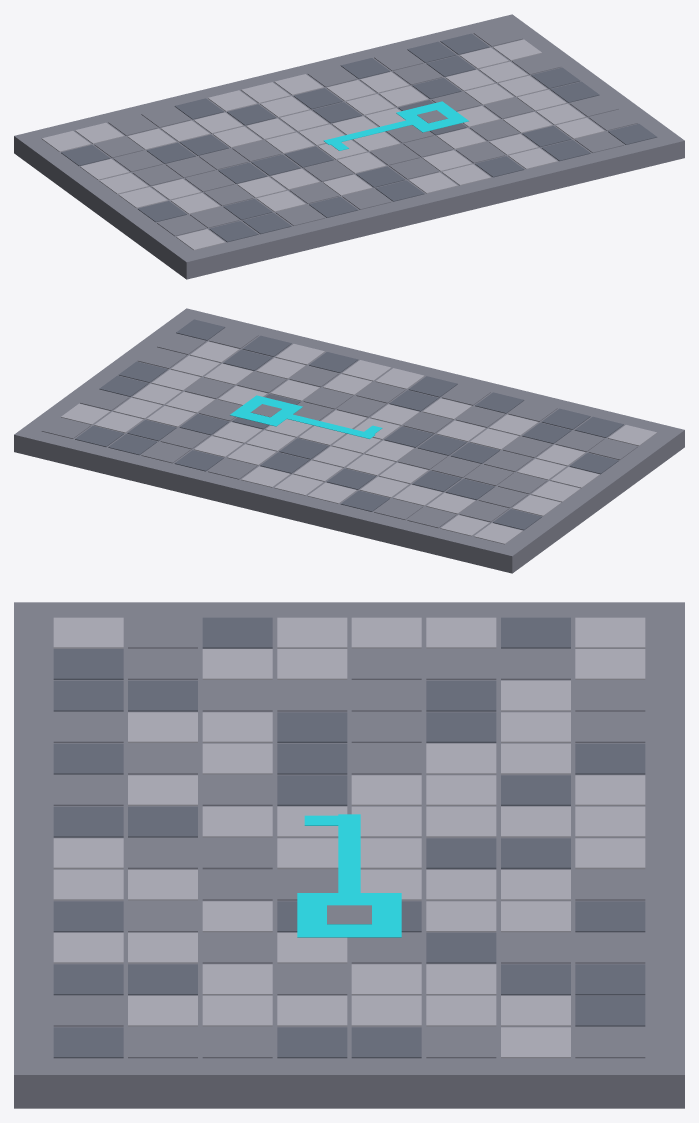
The model's file is archive_vault_floor.glb.
3 views of the same model, one above another, from view 1: azimuth 30°, elevation 25°; view 2: azimuth 150°, elevation 25°; view 3: azimuth 270°, elevation 25° (orthographic). The views are drawn at different scales.
Parts seen in each view (by area): view 1: base; view 2: base; view 3: base.
Boxes of the visible parts, box(x1,y1,x2,y2) form: base: box(14, 14, 684, 279); base: box(14, 308, 684, 573); base: box(14, 602, 684, 1108).
Bounding box in the file's own units: 15 × 0.54 × 9.
